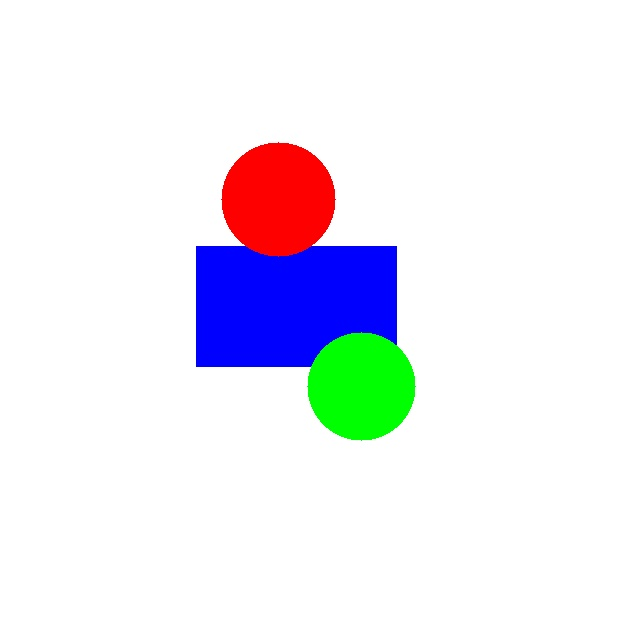cartao: (196, 246, 396, 366)
rosca_externa: (307, 332, 415, 440)
rosca_interna: (221, 142, 335, 256)
